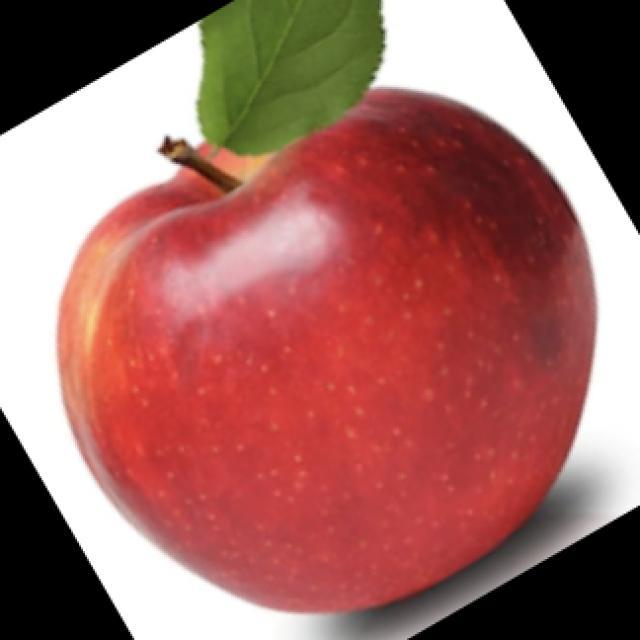Fresh Apple: (65, 95, 582, 597)
